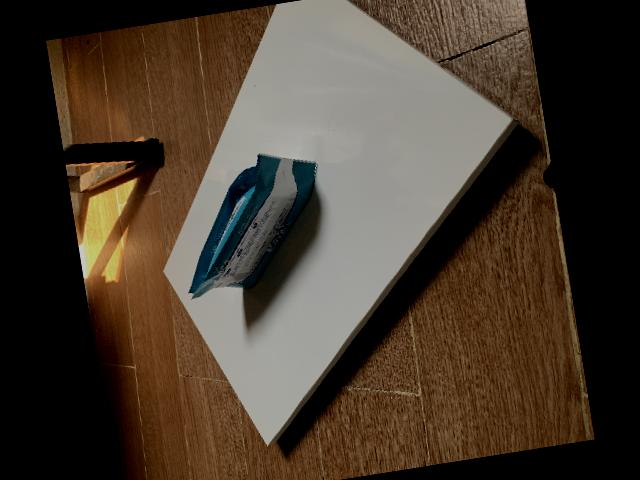Let-green_alcohol_wipes: (187, 151, 317, 299)
